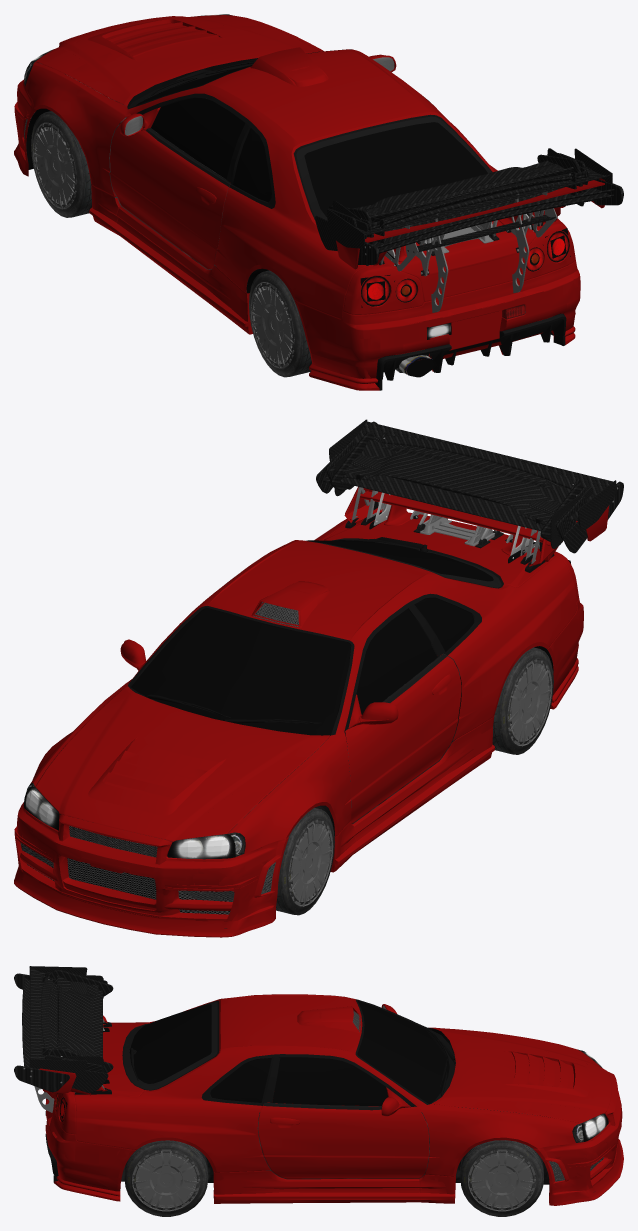
3 views of the same model, one above another, from view 1: azimuth 30°, elevation 25°; view 2: azimuth 150°, elevation 25°; view 3: azimuth 270°, elevation 25° (orthographic). The views are drawn at different scales.
Visible parts, largest first — view 1: R34, RearBumper, Hood1, RearBumper1, RearBumper2, Hood2, Spoiler5, Spoiler3, Hood0, SideSkirt1, Spoiler7, Spoiler13 (+16 smaller); view 2: R34, Hood1, FrontBumper1, Hood0, Hood2, FrontBumper, Spoiler13, FrontBumper2, Spoiler6, SideSkirt1, Spoiler3, W1_001 (+16 smaller); view 3: R34, Hood1, Hood0, Hood2, SideSkirt1, FrontBumper1, W1_003, W1_002, Spoiler13, Spoiler3, SideSkirt2, Spoiler5 (+22 smaller).
Boxes of the visible parts, x1,y1,x2,y2 form: R34: [24, 14, 575, 335]; RearBumper: [294, 260, 580, 383]; Hood1: [44, 15, 318, 105]; RearBumper1: [297, 265, 580, 388]; RearBumper2: [297, 261, 580, 390]; Hood2: [36, 15, 319, 106]; Spoiler5: [358, 179, 623, 276]; Spoiler3: [327, 148, 612, 271]; Hood0: [36, 15, 286, 99]; SideSkirt1: [89, 185, 250, 326]; Spoiler7: [372, 171, 576, 312]; Spoiler13: [329, 153, 585, 265]; R34: [26, 512, 578, 856]; Hood1: [35, 686, 329, 840]; FrontBumper1: [14, 779, 288, 937]; Hood0: [37, 688, 323, 841]; Hood2: [36, 686, 329, 841]; FrontBumper: [14, 778, 288, 928]; Spoiler13: [326, 440, 586, 572]; FrontBumper2: [14, 815, 277, 937]; Spoiler6: [330, 432, 583, 563]; SideSkirt1: [335, 716, 494, 864]; Spoiler3: [329, 419, 616, 555]; W1_001: [492, 647, 552, 754]; R34: [53, 994, 601, 1195]; Hood1: [432, 1028, 595, 1118]; Hood0: [442, 1035, 611, 1123]; Hood2: [432, 1027, 611, 1122]; SideSkirt1: [213, 1102, 455, 1198]; FrontBumper1: [533, 1072, 623, 1205]; W1_003: [461, 1140, 543, 1212]; W1_002: [124, 1140, 208, 1212]; Spoiler13: [58, 974, 111, 1095]; Spoiler3: [29, 966, 87, 1080]; SideSkirt2: [213, 1103, 455, 1203]; Spoiler5: [14, 973, 69, 1092].
Size of the model in its own units: 1.46 by 1.07 by 3.67.
